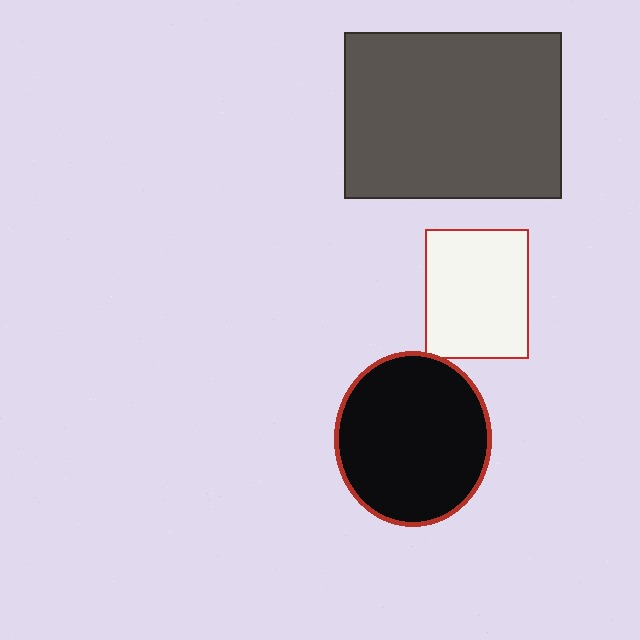book: (425, 229, 528, 358)
concrete_damage: (344, 32, 561, 198)
open_manhole: (334, 351, 491, 526)
